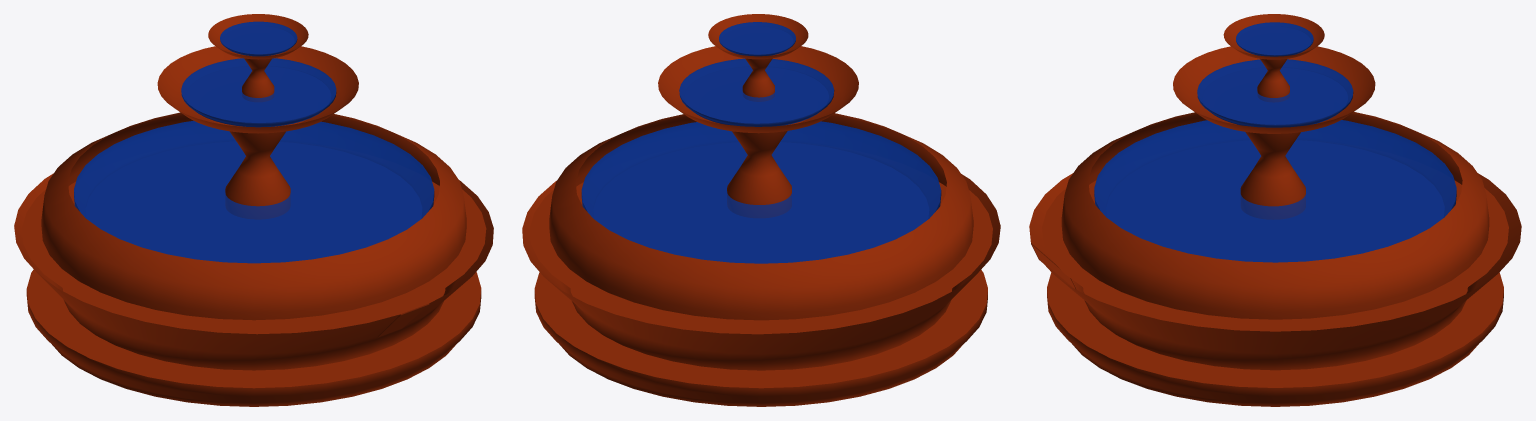
The model's file is fountain.DAE.
3 renders of one model, left to right at view 1: azimuth 30°, elevation 25°; view 2: azimuth 150°, elevation 25°; view 3: azimuth 270°, elevation 25°, orthographic.
Visible parts, largest first — view 1: Cylinder013; view 2: Cylinder013; view 3: Cylinder013.
Part boxes in pixels (<box>): Cylinder013: <box>14,14,493,406</box>; Cylinder013: <box>522,14,1000,406</box>; Cylinder013: <box>1029,14,1521,406</box>.
Bounding box in the file's own units: 48.22 × 31.46 × 49.6.
